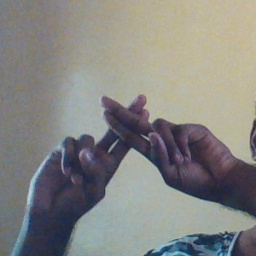F: (63, 90, 199, 187)
